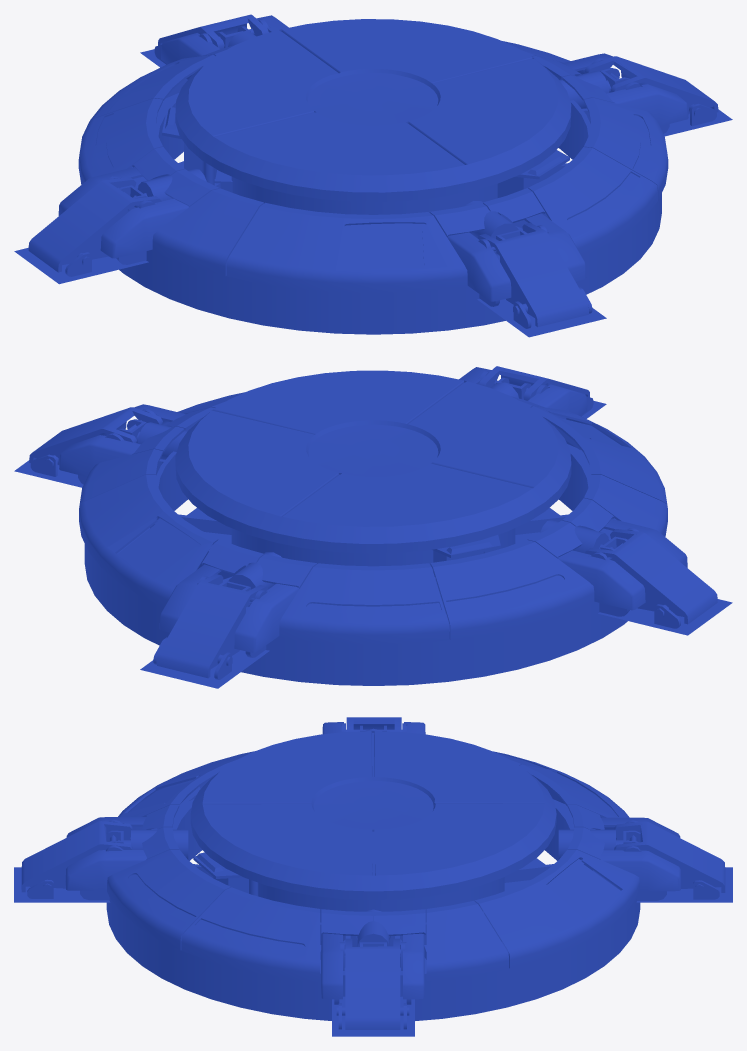
Rendered from portal-button.glb.
3 renders of one model, top to bottom at view 1: azimuth 30°, elevation 25°; view 2: azimuth 150°, elevation 25°; view 3: azimuth 270°, elevation 25°, orthographic. The views are drawn at different scales.
Parts seen in each view (by area): view 1: base; view 2: base; view 3: base.
Part boxes in pixels (left/top/right/bottom): base: left=14, top=14, right=732, bottom=337; base: left=14, top=366, right=732, bottom=688; base: left=14, top=717, right=732, bottom=1036.
Size of the model in its own units: 3.2 by 0.5379 by 3.2.
